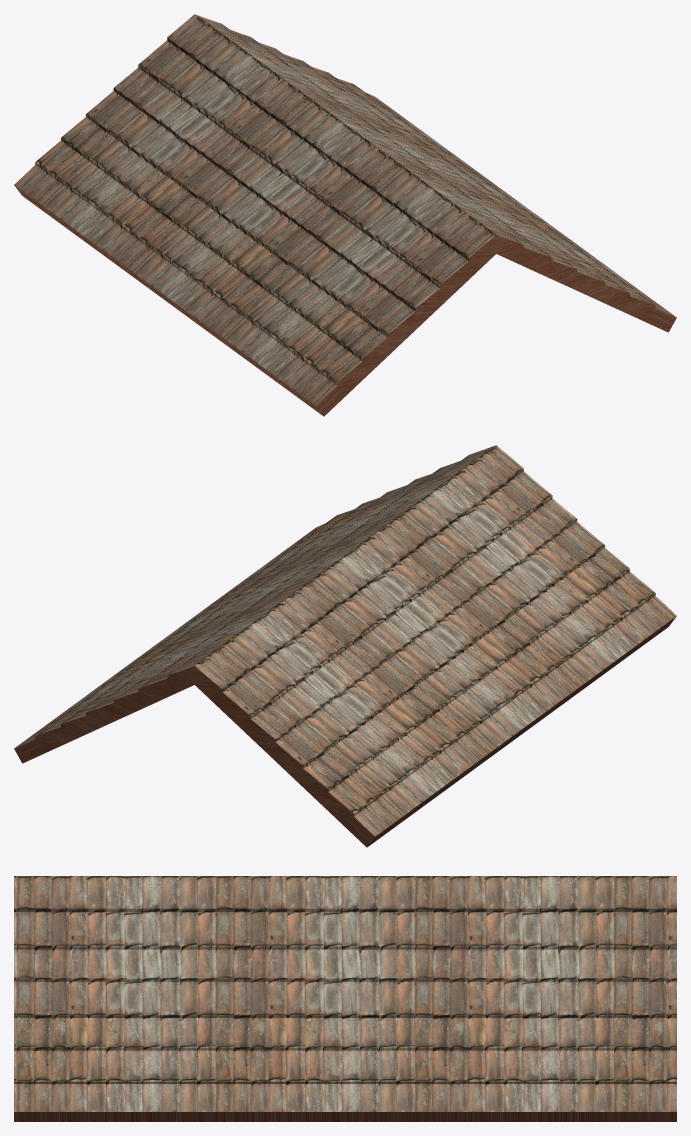
The model's file is R1_Genteng.fbx.
The picture shows the model from 3 angles, top to bottom: view 1: azimuth 30°, elevation 25°; view 2: azimuth 150°, elevation 25°; view 3: azimuth 270°, elevation 25°; orthographic projection. The views are drawn at different scales.
Parts seen in each view (by area): view 1: Cube.014; view 2: Cube.014; view 3: Cube.014.
Boxes of the visible parts, box(x1,y1,x2,y2) form: Cube.014: box(14, 14, 676, 416); Cube.014: box(14, 445, 676, 847); Cube.014: box(14, 876, 676, 1121).
Bounding box in the file's own units: 15.03 × 5.55 × 21.74.
2 materials, 2 textured.
